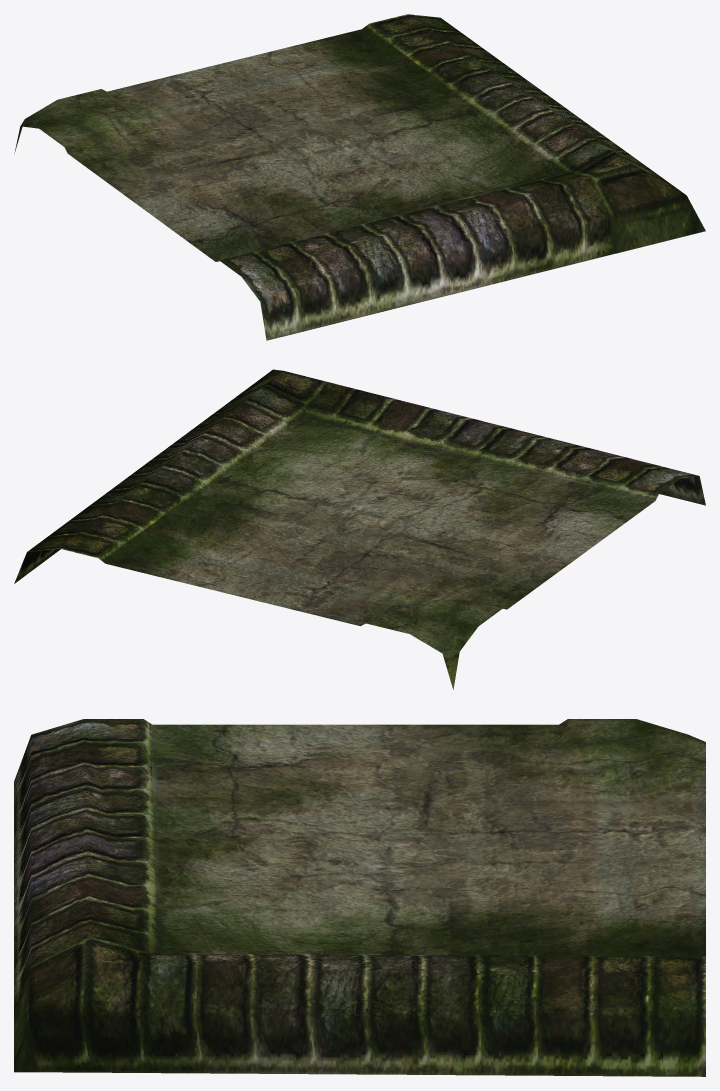
The model's file is floor_corner_concave.DAE.
3 views of the same model, one above another, from view 1: azimuth 30°, elevation 25°; view 2: azimuth 150°, elevation 25°; view 3: azimuth 270°, elevation 25° (orthographic). The views are drawn at different scales.
Visible parts, largest first — view 1: floor_corner_concave; view 2: floor_corner_concave; view 3: floor_corner_concave.
Boxes of the visible parts, x1,y1,x2,y2 form: floor_corner_concave: (14,14,705,340); floor_corner_concave: (14,369,705,689); floor_corner_concave: (14,719,705,1076).
Size of the model in its own units: 2.23 by 2.22 by 0.2937.
